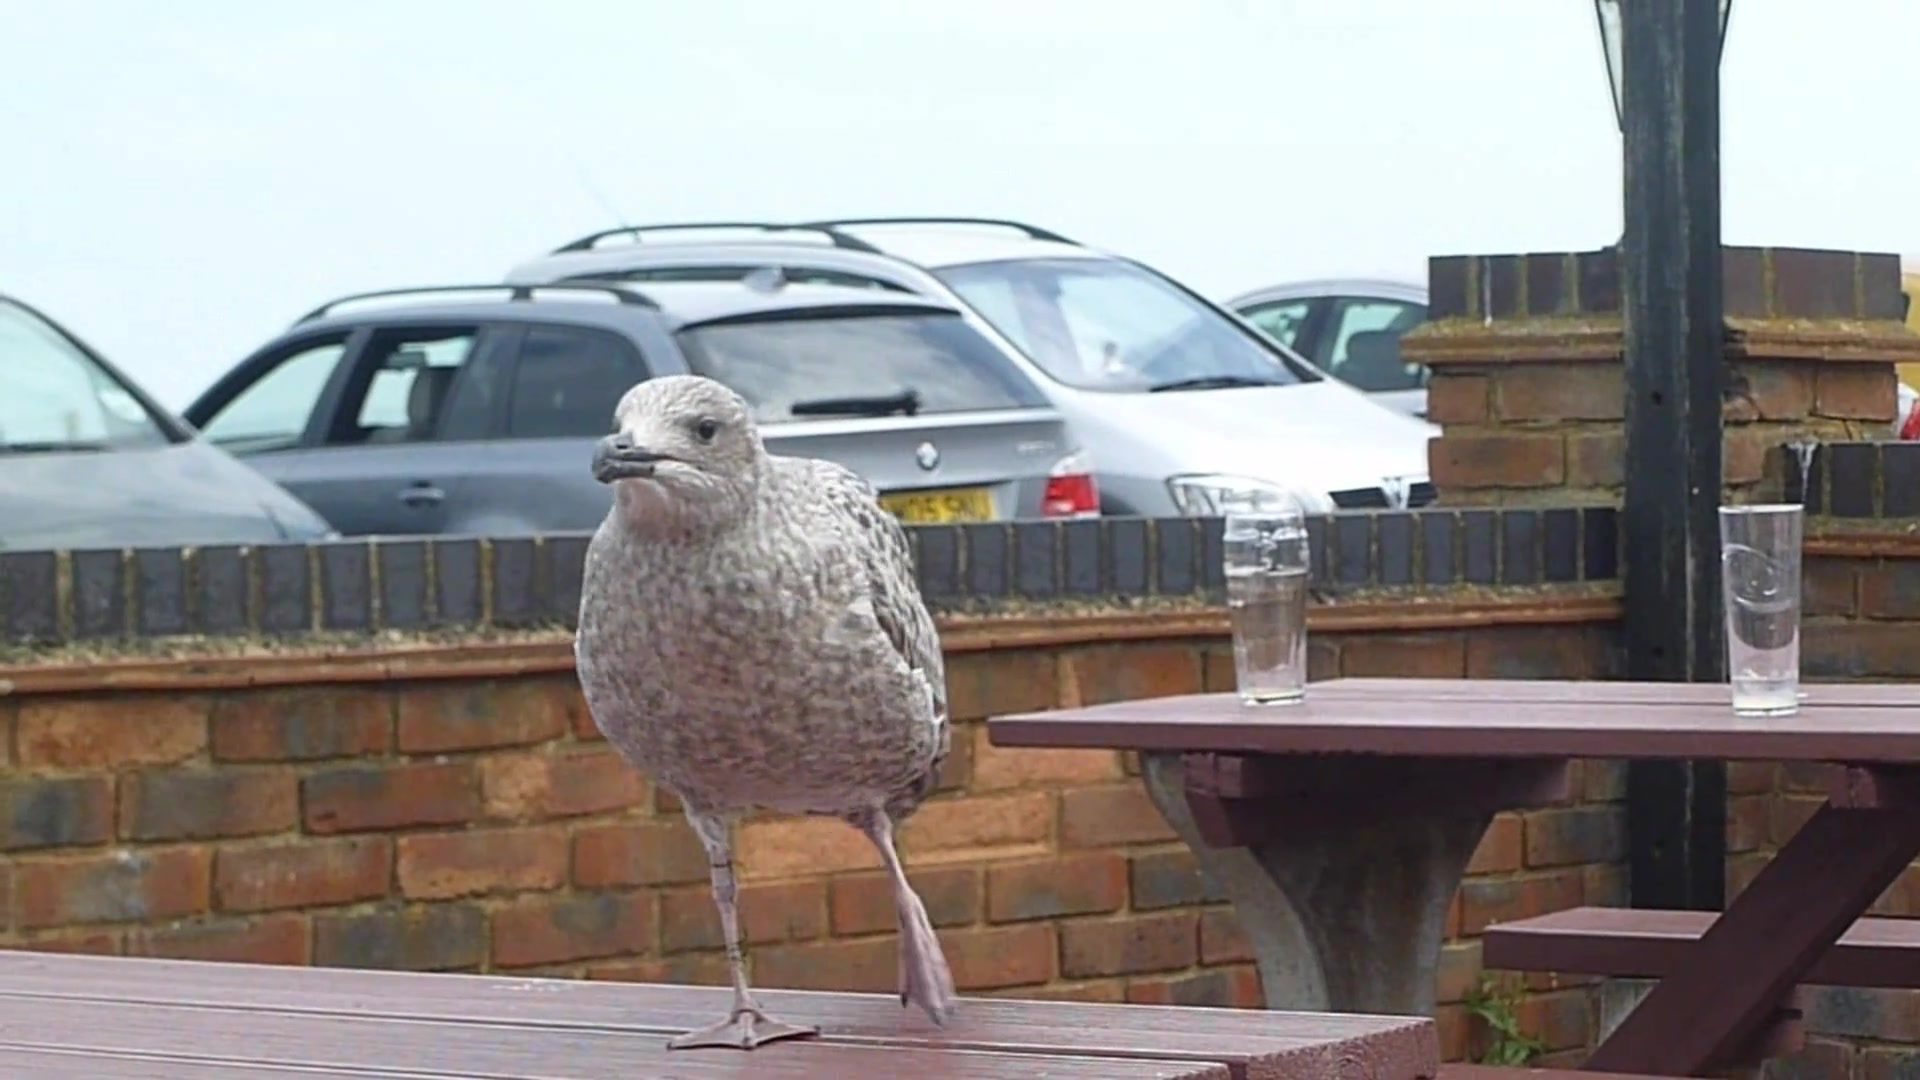bird: (574, 375, 963, 1055)
